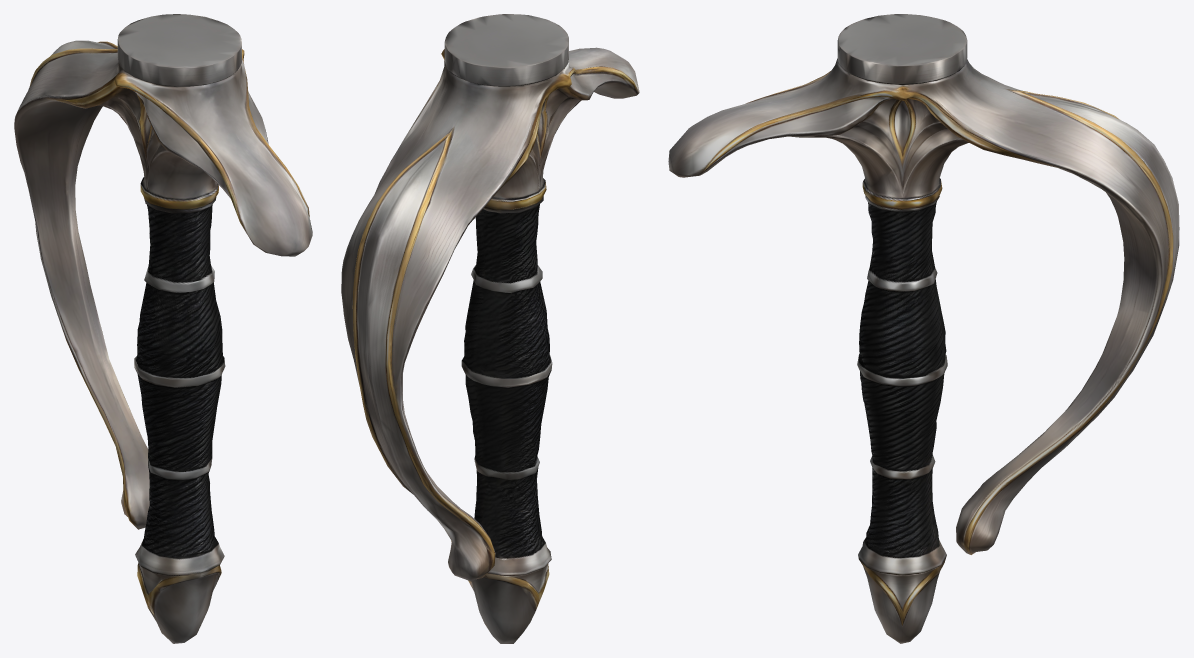
Rendered from hilt_veilcutter.glb.
3 renders of one model, left to right at view 1: azimuth 30°, elevation 25°; view 2: azimuth 150°, elevation 25°; view 3: azimuth 270°, elevation 25°, orthographic.
Parts seen in each view (by area): view 1: tripo_node_7c19c352-3dbe-4e3f-9067-dff4a3dcc3d5; view 2: tripo_node_7c19c352-3dbe-4e3f-9067-dff4a3dcc3d5; view 3: tripo_node_7c19c352-3dbe-4e3f-9067-dff4a3dcc3d5.
Part boxes in pixels (bbox=[...]): tripo_node_7c19c352-3dbe-4e3f-9067-dff4a3dcc3d5: bbox=[14, 14, 312, 643]; tripo_node_7c19c352-3dbe-4e3f-9067-dff4a3dcc3d5: bbox=[341, 14, 639, 643]; tripo_node_7c19c352-3dbe-4e3f-9067-dff4a3dcc3d5: bbox=[668, 14, 1179, 643].
Size of the model in its own units: 0.2218 by 1 by 0.7688.
Materials: 1 (1 with a texture image).
